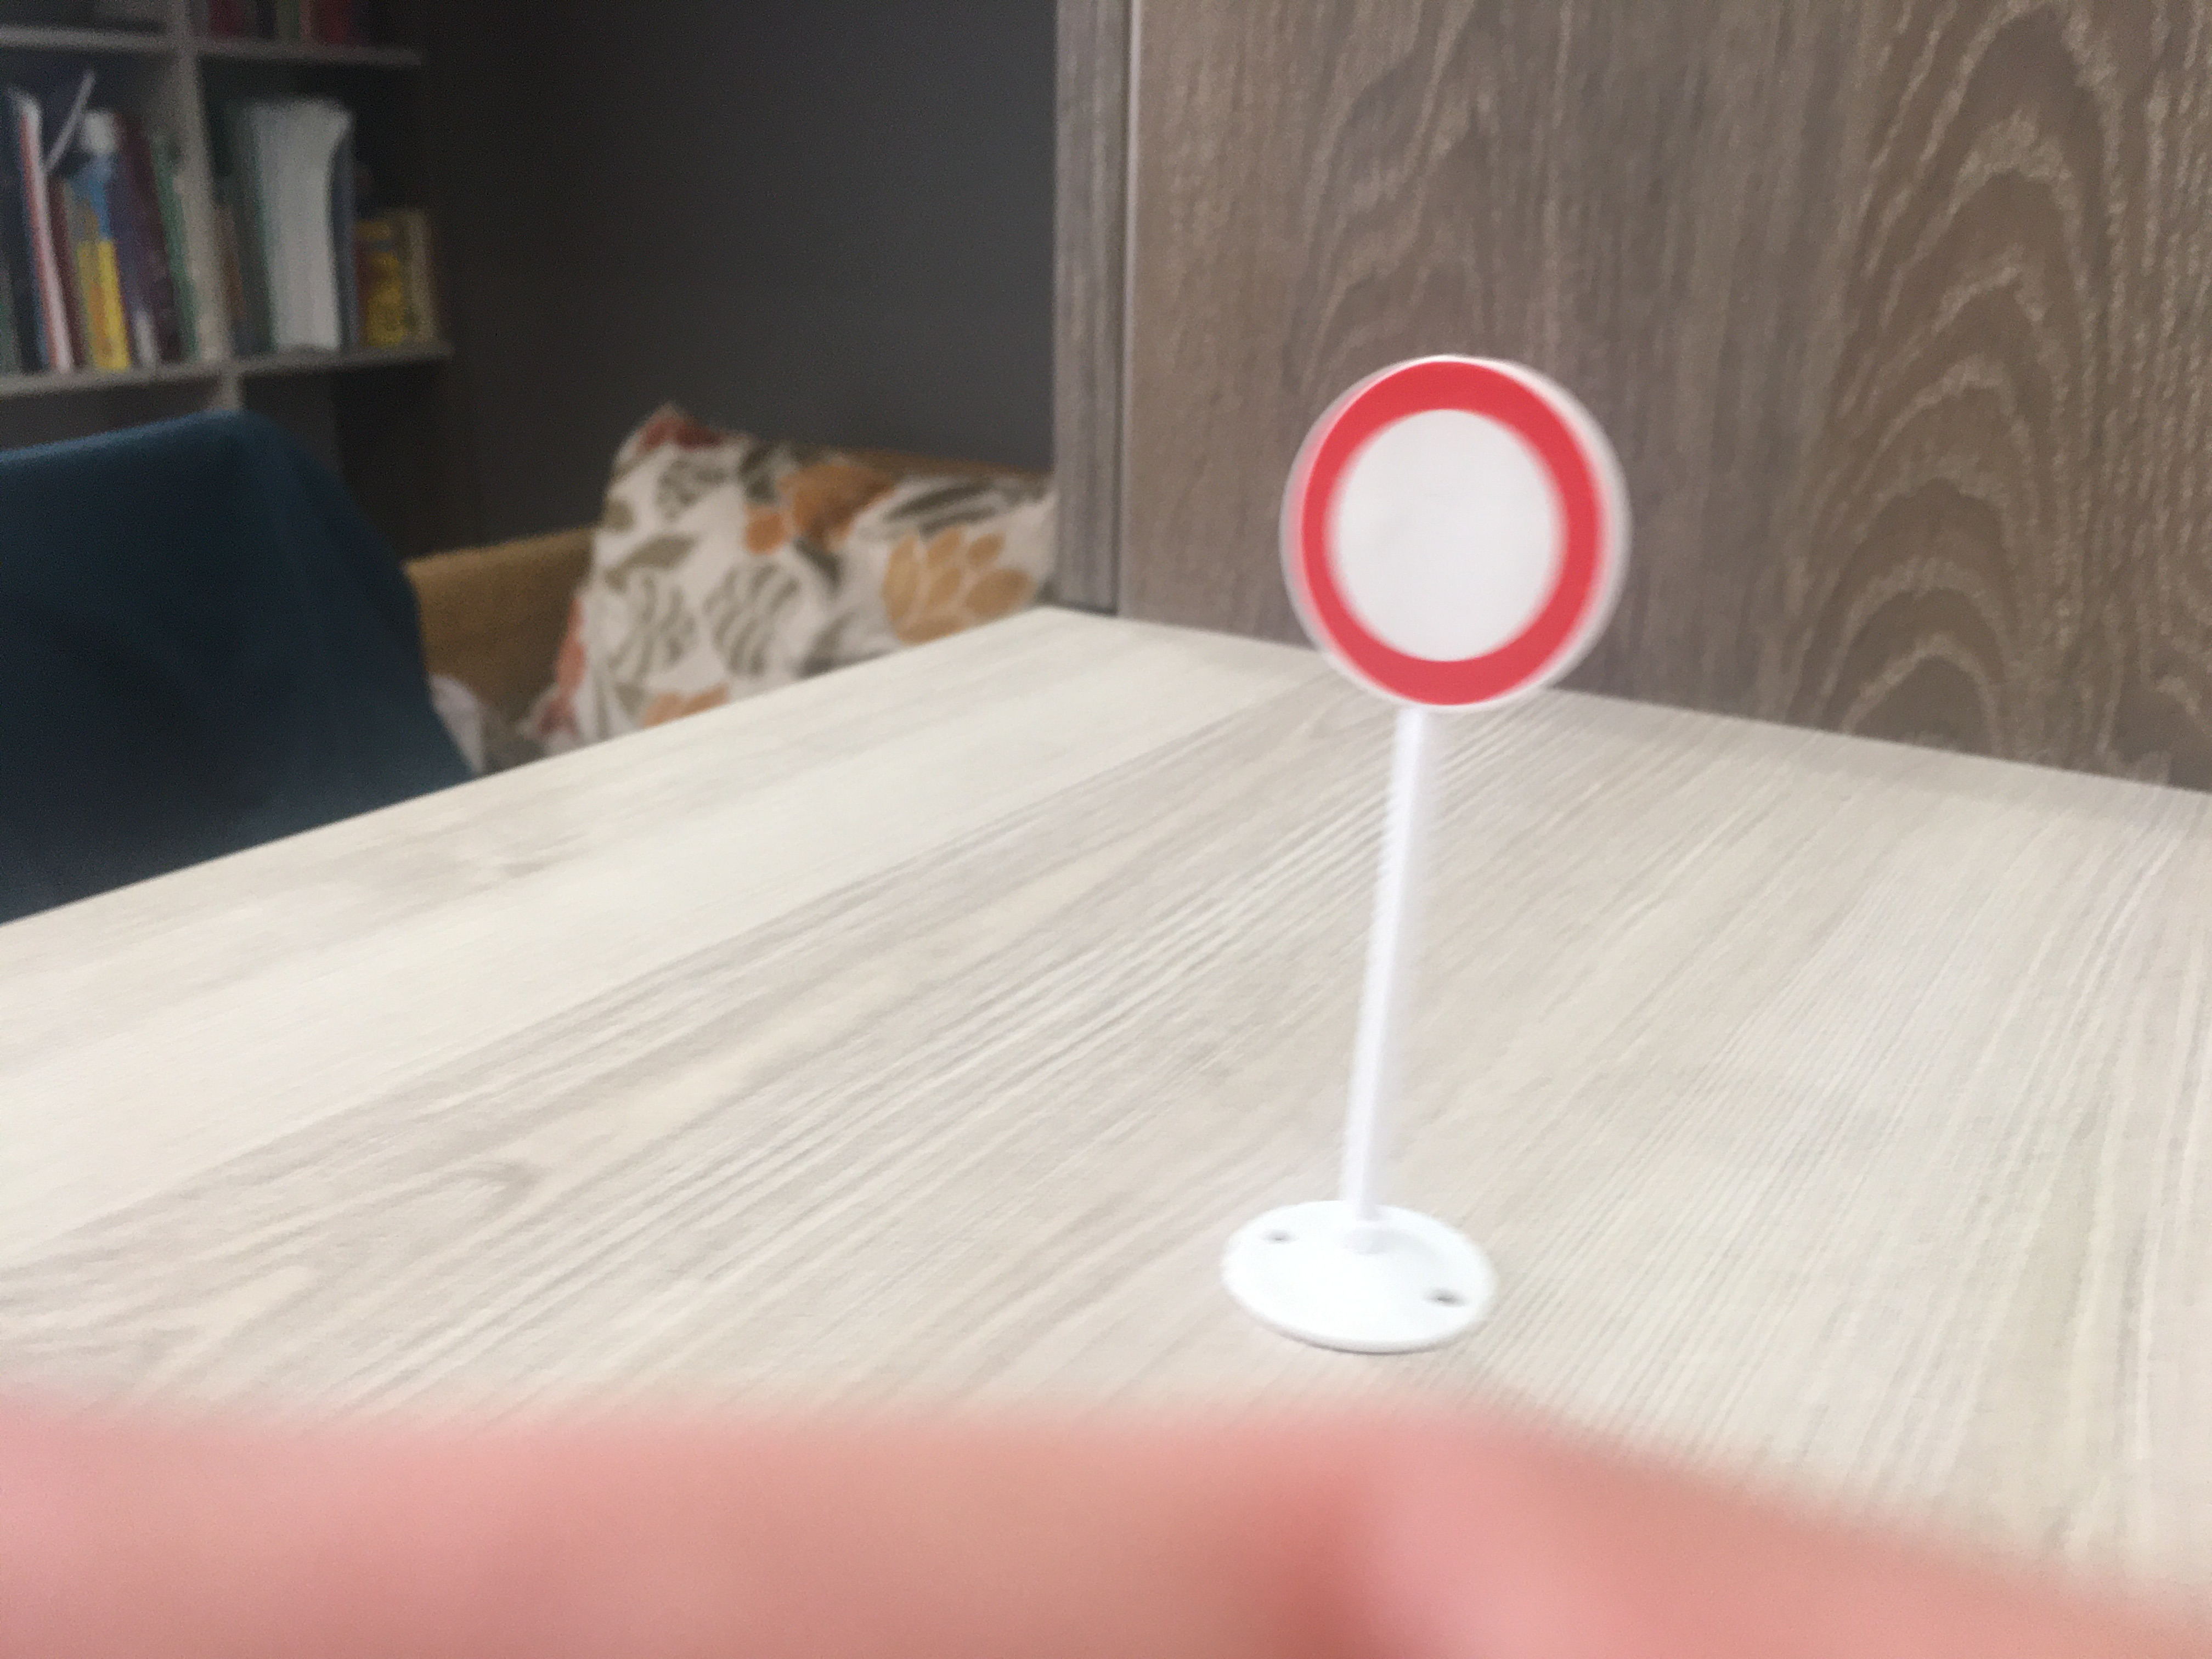noDrive: (1291, 361, 1604, 720)
